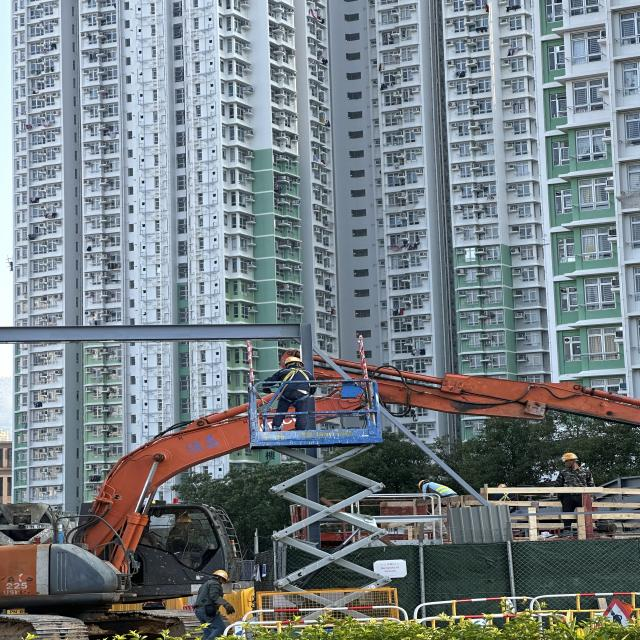2m above platform: (235, 376, 401, 622)
Belt: (274, 366, 313, 392)
machinery: (0, 415, 247, 640)
worker: (258, 352, 316, 428), (552, 450, 600, 522), (193, 564, 236, 640)
